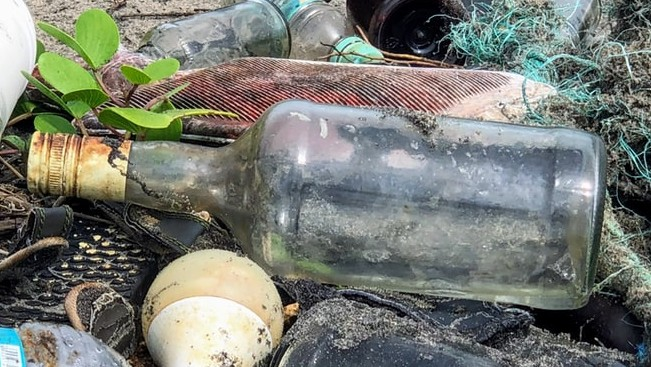garbage: (3, 18, 651, 363), (119, 4, 651, 362)
